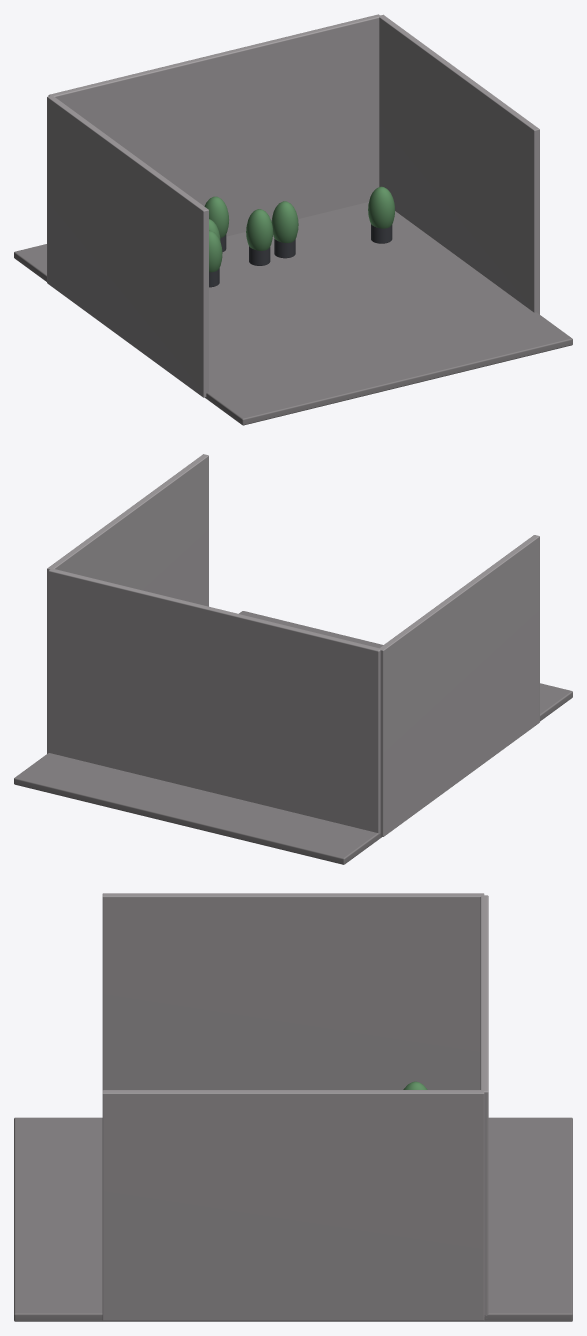
3 renders of one model, top to bottom at view 1: azimuth 30°, elevation 25°; view 2: azimuth 150°, elevation 25°; view 3: azimuth 270°, elevation 25°, orthographic. The views are drawn at different scales.
Parts seen in each view (by area): view 1: Room floor, Back wall, Left wall, Right wall, Foliage volume.008, Foliage volume.004, Foliage volume, Foliage volume.006; view 2: Back wall, Left wall, Room floor, Right wall; view 3: Right wall, Left wall, Room floor, Back wall.
Part boxes in pixels (x1,y1,x2,y2): Room floor: [14, 202, 572, 425]; Back wall: [48, 14, 380, 236]; Left wall: [47, 95, 208, 397]; Right wall: [379, 14, 539, 314]; Foliage volume.008: [246, 209, 273, 250]; Foliage volume.004: [368, 186, 394, 228]; Foliage volume: [271, 201, 298, 243]; Foliage volume.006: [204, 196, 228, 238]; Back wall: [48, 568, 380, 833]; Left wall: [379, 535, 539, 836]; Room floor: [14, 611, 572, 864]; Right wall: [47, 454, 208, 753]; Right wall: [102, 1090, 484, 1320]; Left wall: [102, 893, 484, 1089]; Room floor: [14, 1117, 572, 1321]; Back wall: [480, 895, 488, 1318].
Bounding box in the file's own units: 10.18 × 5.47 × 12.
